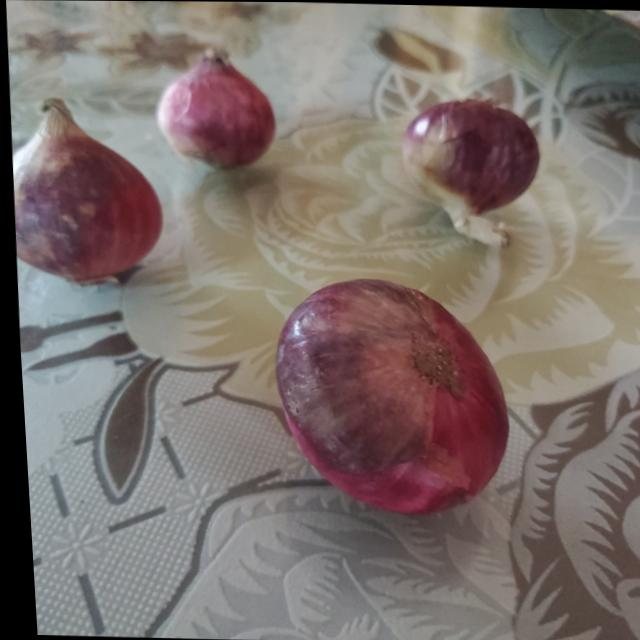onion: (269, 281, 514, 514), (6, 108, 161, 286), (399, 100, 539, 216), (153, 48, 276, 169)
